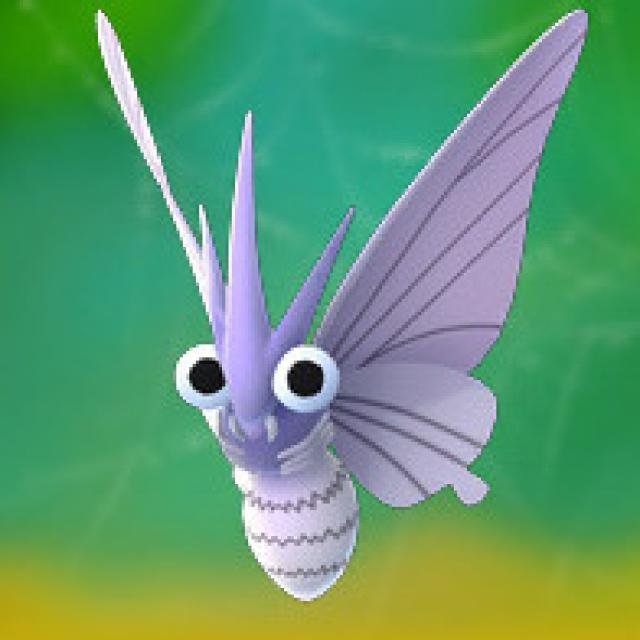Venomoth: (170, 110, 503, 588)
